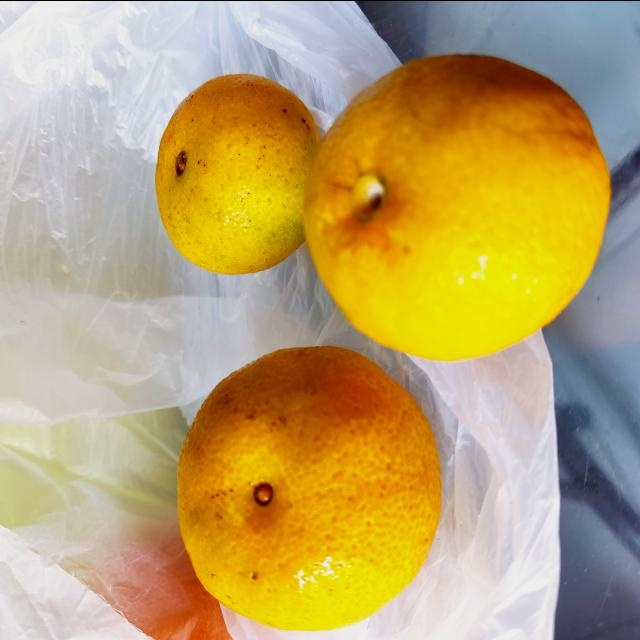agrume: (303, 49, 616, 359), (174, 343, 446, 629), (152, 70, 324, 274)
